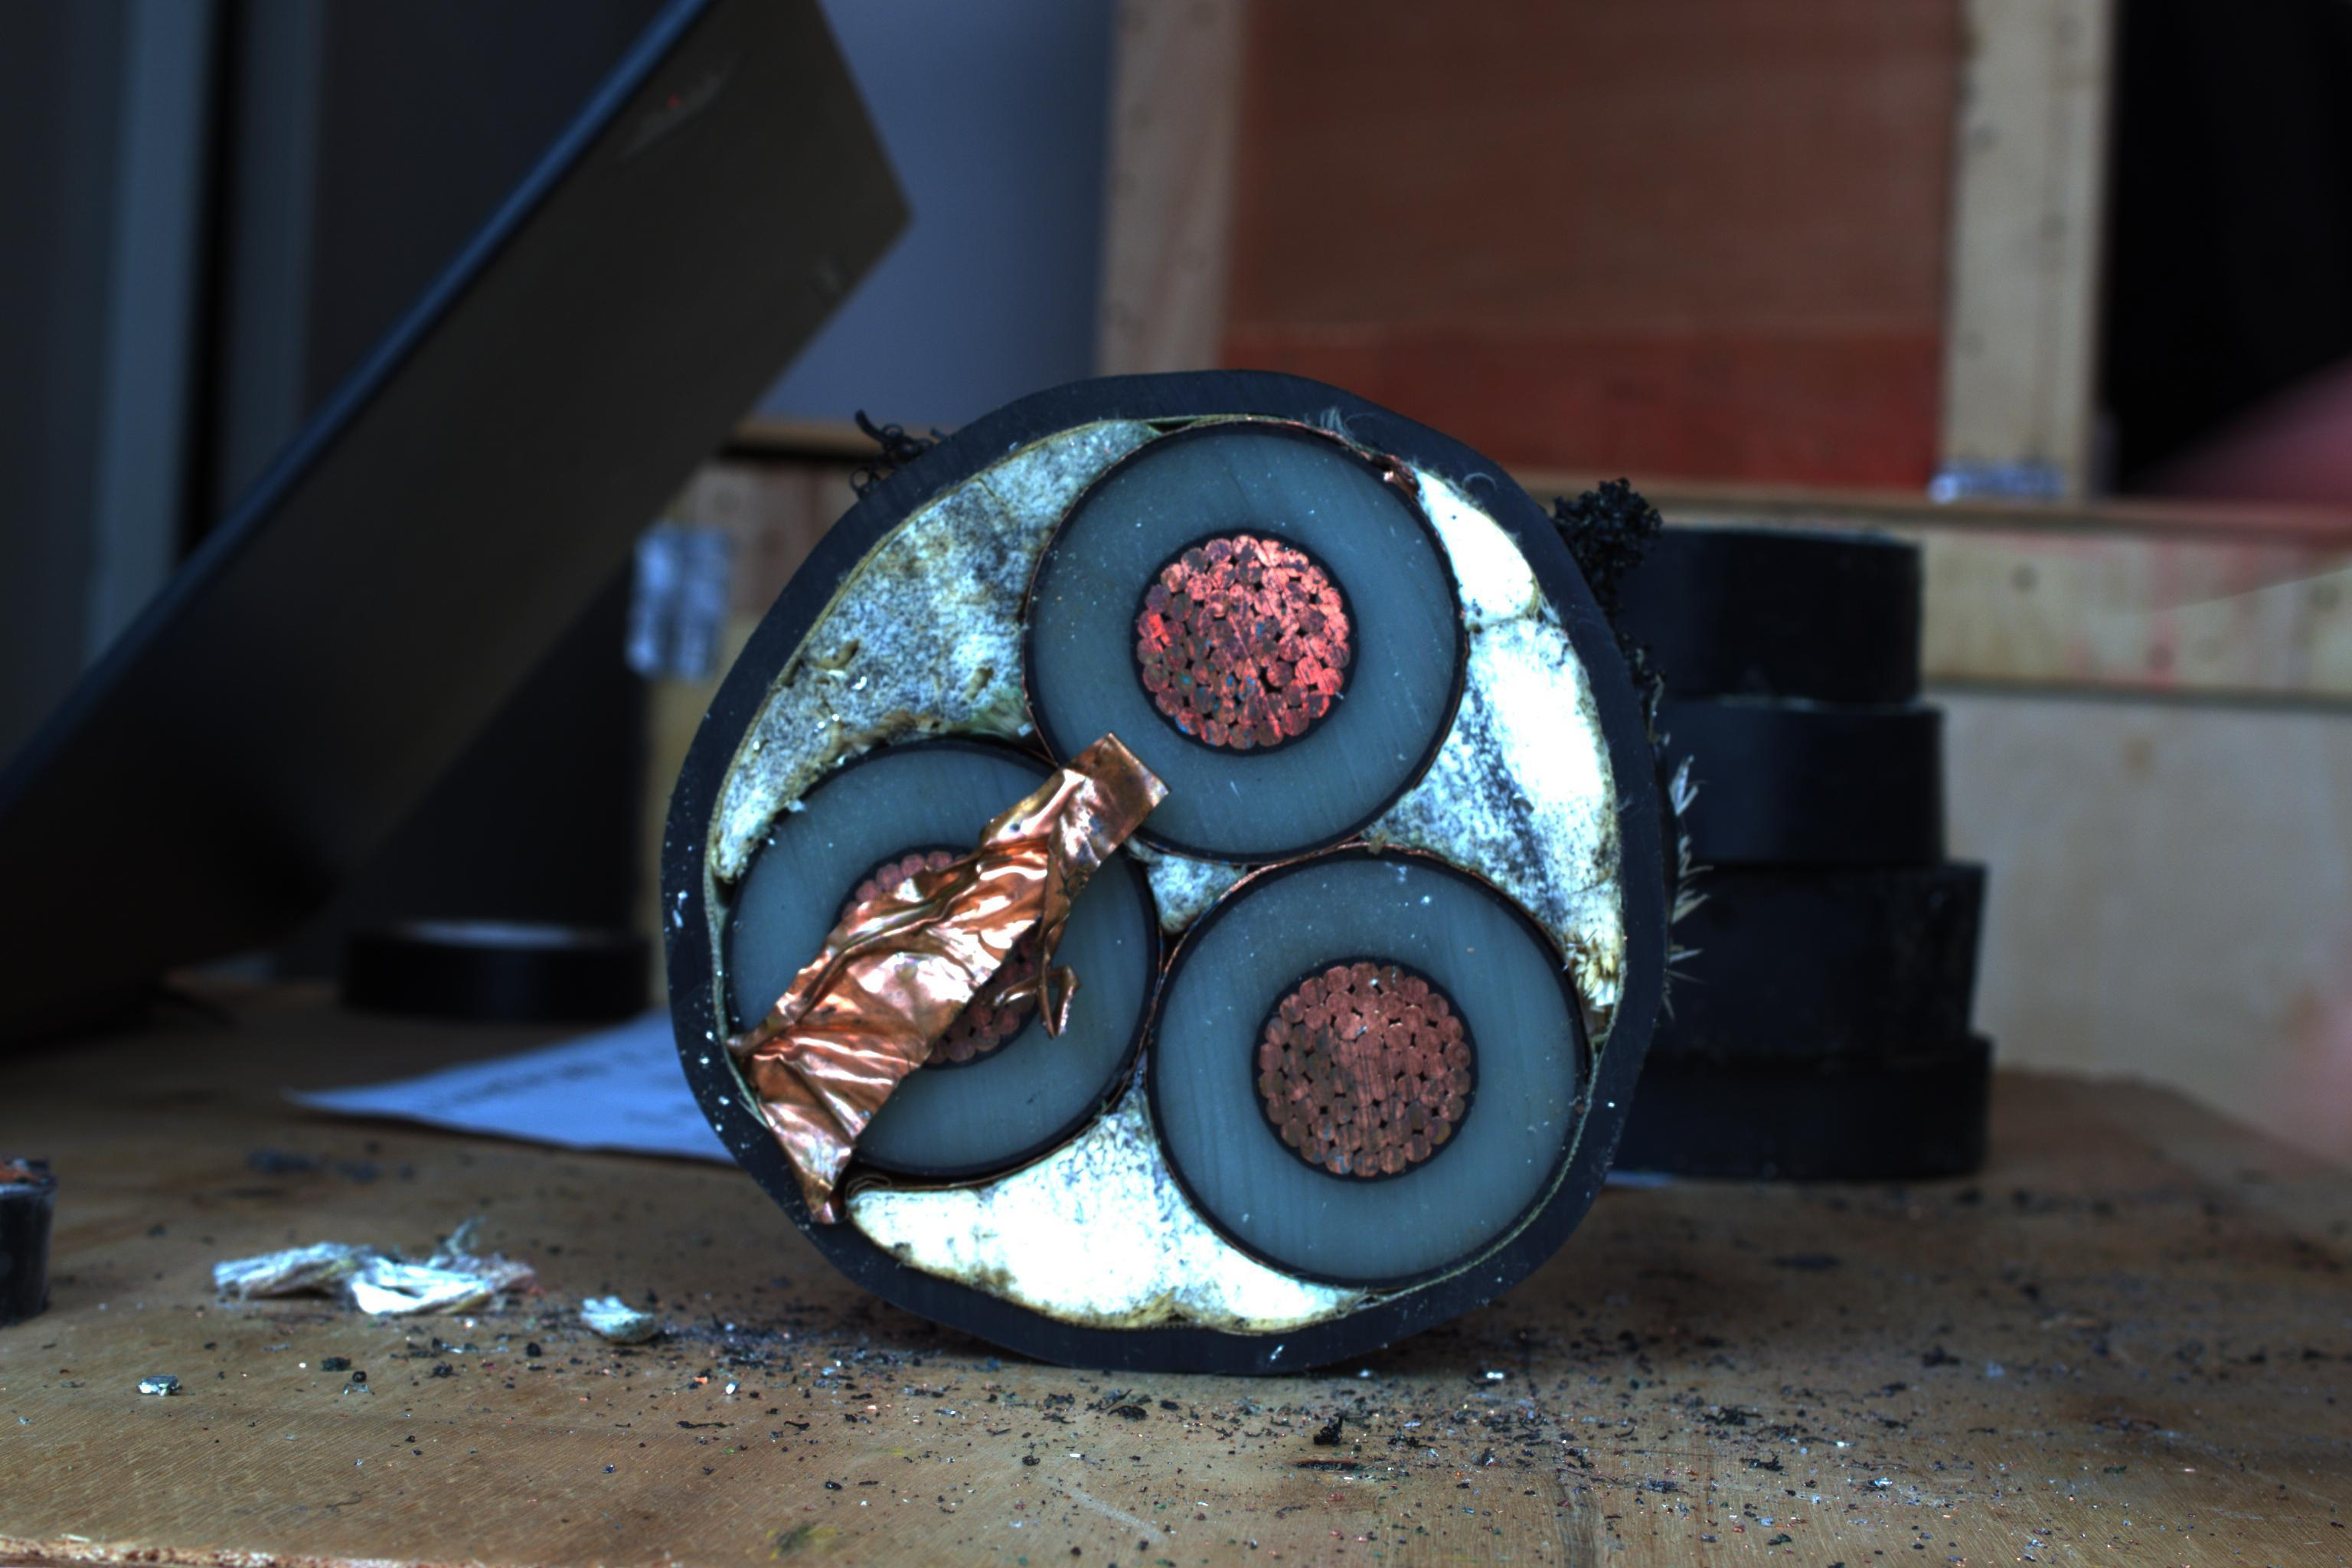ZA_YJV_26_35kV_3x400: (637, 392, 1706, 1379)
